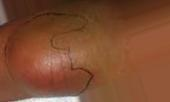Spider: (0, 16, 99, 102)
